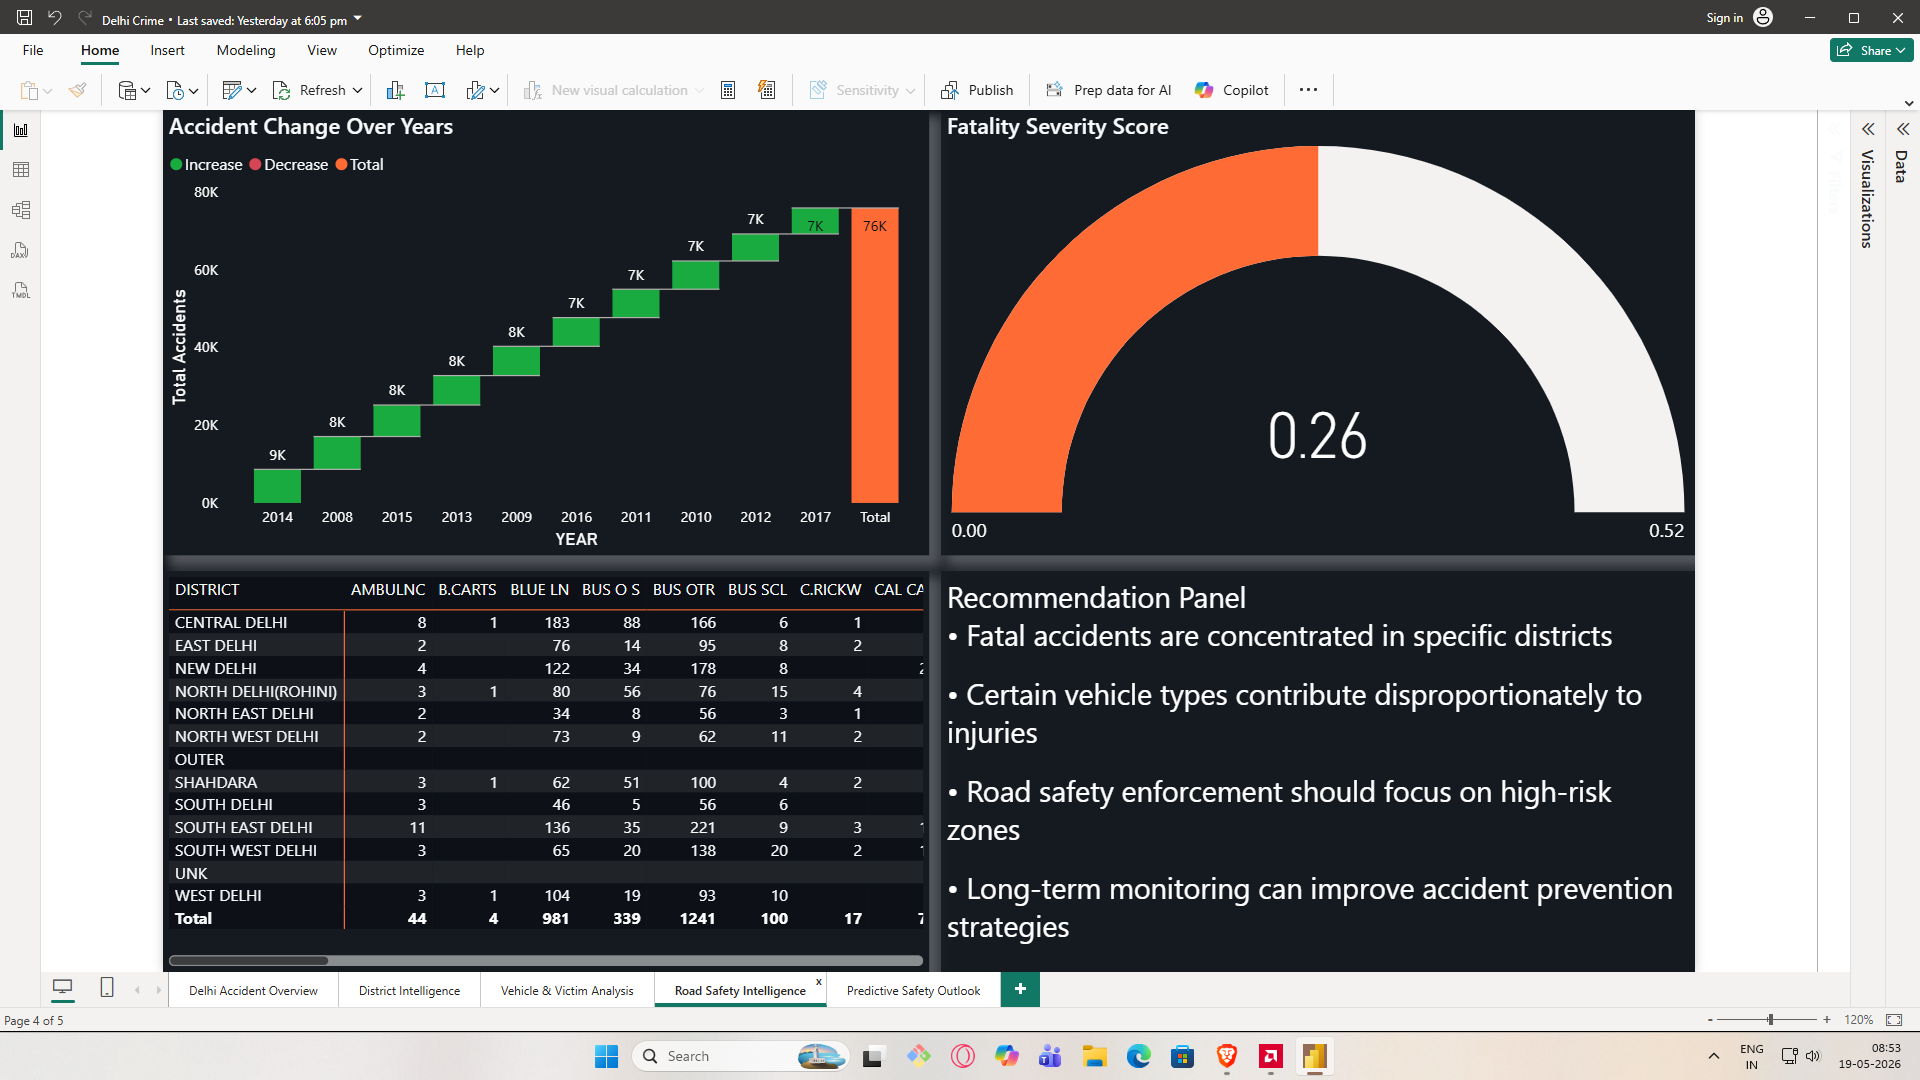

The dashboard page shown, as its layout file describes it:
{"tool":"powerbi","page":{"name":"Road Safety Intelligence","canvas":[1280,720],"ordinal":3},"visuals":[{"type":"waterfallChart","title":"Accident Change Over Years","fields":{"Category":["Data.YEAR"],"Y":["Data.Total Accidents"]},"box":[0,0,640,371.6],"z":0},{"type":"pivotTable","fields":{"Rows":["Data.DISTRICT"],"Columns":["Data.VEHICLE AT FAULT"],"Values":["Data.Total Accidents"]},"box":[0,385.2,640,334.6],"z":1000},{"type":"gauge","title":"Fatality Severity Score","fields":{"Y":["Data.Fatality Rate"]},"box":[650,0,630,372],"z":2000},{"type":"textbox","box":[650,385,630,335],"z":3000}]}

Visuals, with their boxes on the page's 1280x720 design canvas (x1, y1, x2, y2). These are canvas units, not pixel positions in the 1920x1080 screenshot, which may show the page scaled, cropped or inside an application window:
"Accident Change Over Years" waterfallChart: (0,0,640,372)
pivotTable - Data.DISTRICT x Data.VEHICLE AT FAULT: (0,385,640,720)
"Fatality Severity Score" gauge: (650,0,1280,372)
textbox: (650,385,1280,720)
